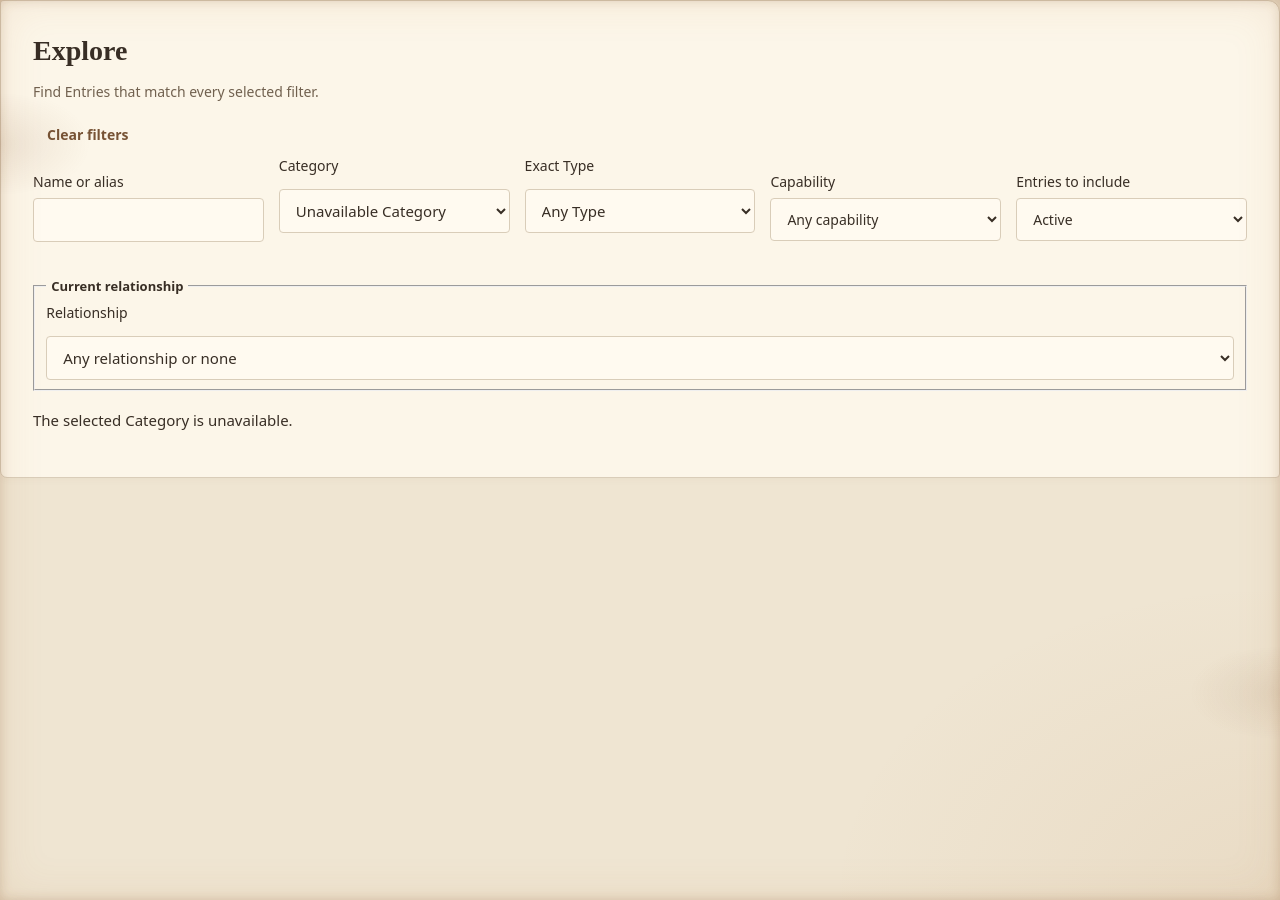
Test: retains unresolved identities and errors instead of displaying unfiltered results
Expected: the message shows "selected Category is unavailable", [33,410,293,430]
Expected: the dropdown labelled "Category" shows "Unavailable Category", [279,189,510,233]
Click the button "Clear filters".
click(88, 135)  # box [33,115,142,155]
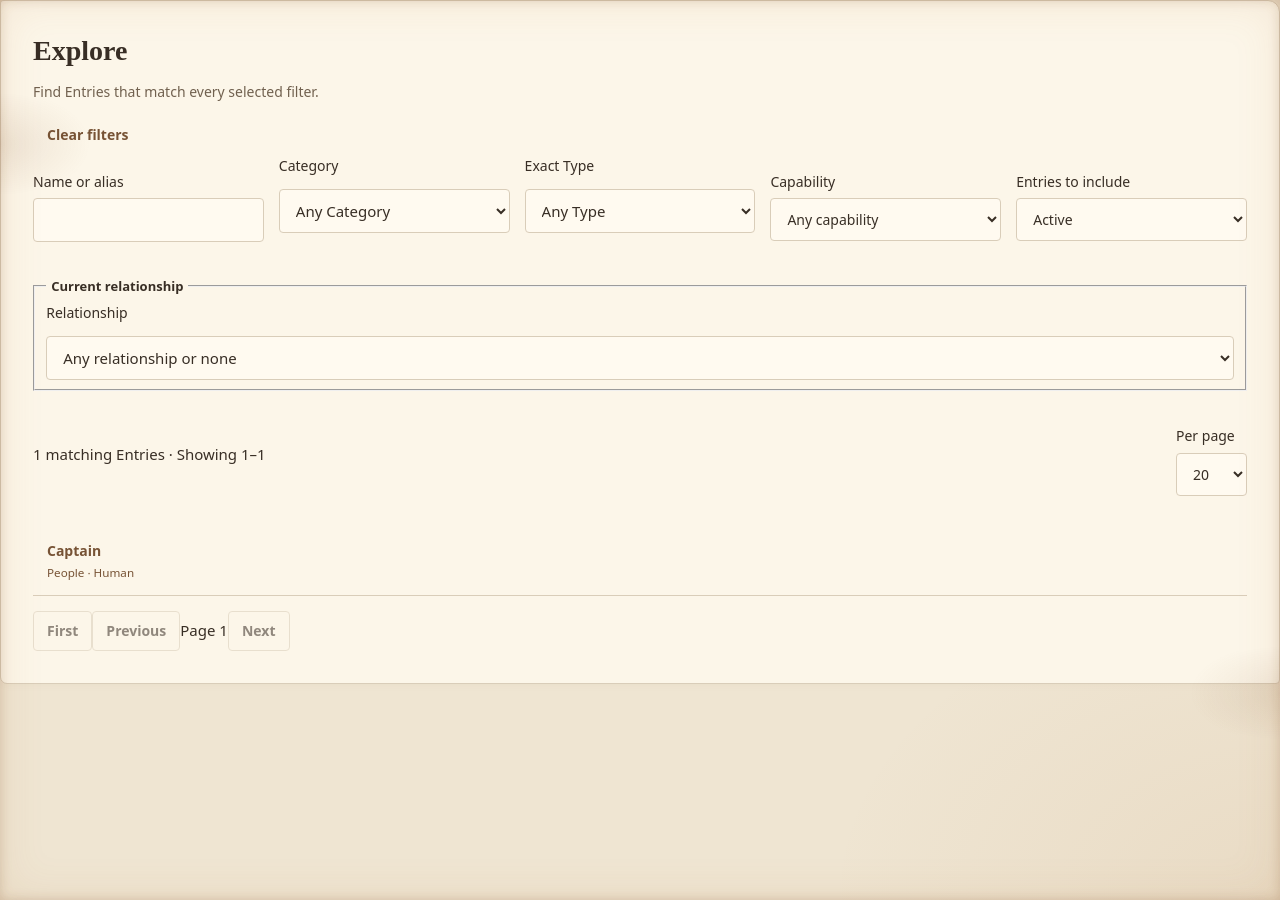
Now the button "Captain People · Human" is shown, box [33,531,148,592]
